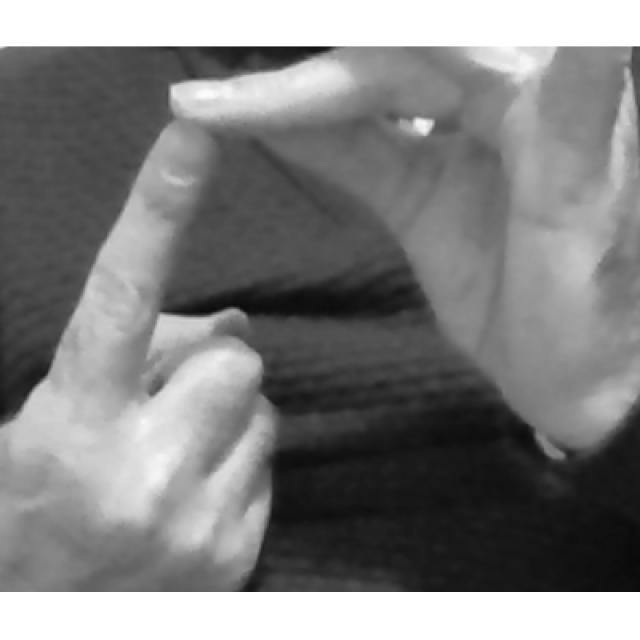I-: (15, 49, 559, 593)
